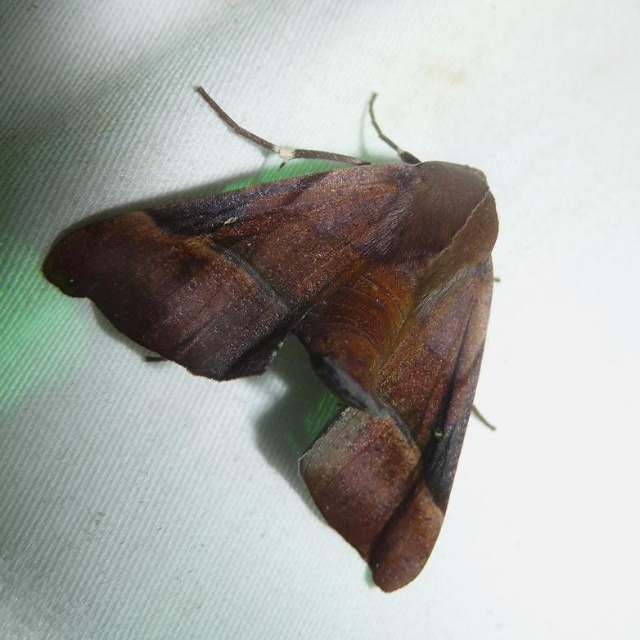Moths and butterflies: (40, 87, 500, 597)
